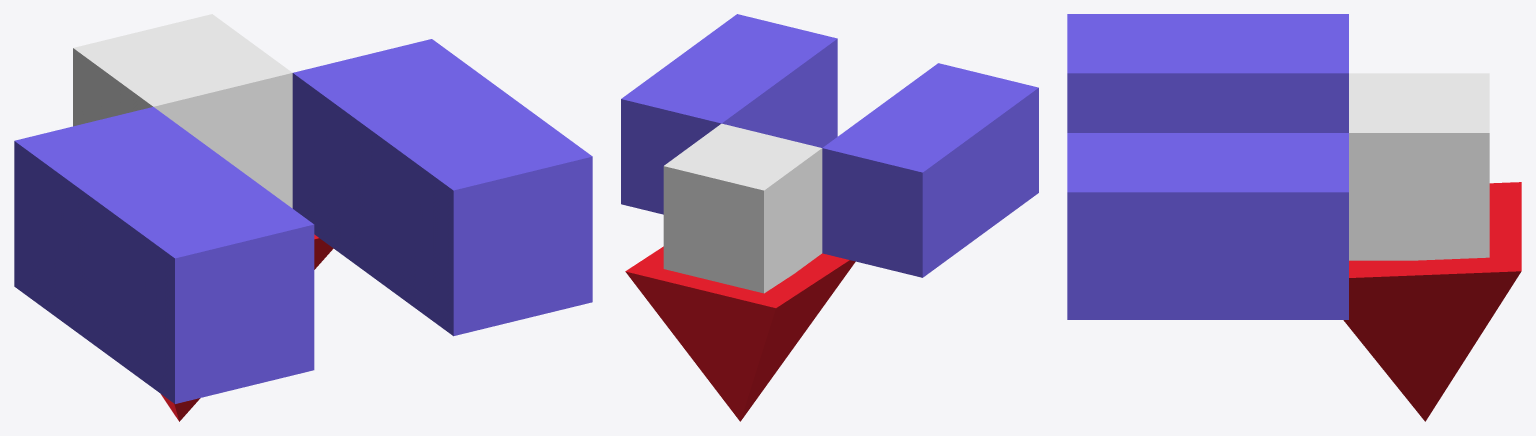
Rendered from player.dae.
The picture shows the model from 3 angles, left to right: view 1: azimuth 30°, elevation 25°; view 2: azimuth 150°, elevation 25°; view 3: azimuth 270°, elevation 25°; orthographic projection. The views are drawn at different scales.
Parts seen in each view (by area): view 1: cube.002; view 2: cube.002; view 3: cube.002.
Boxes of the visible parts, left/top/right/bottom form: cube.002: left=14, top=14, right=592, bottom=421; cube.002: left=621, top=14, right=1038, bottom=421; cube.002: left=1067, top=14, right=1521, bottom=421.
Size of the model in its own units: 0.375 by 0.4034 by 0.3124.
